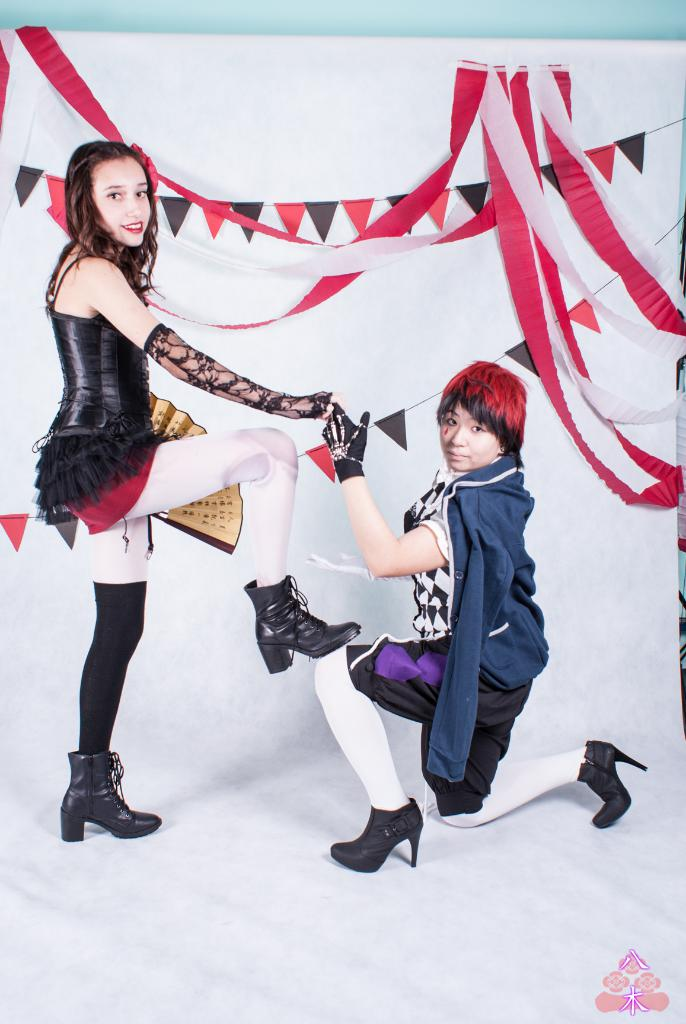Person: (31, 140, 362, 842), (313, 359, 647, 872)
